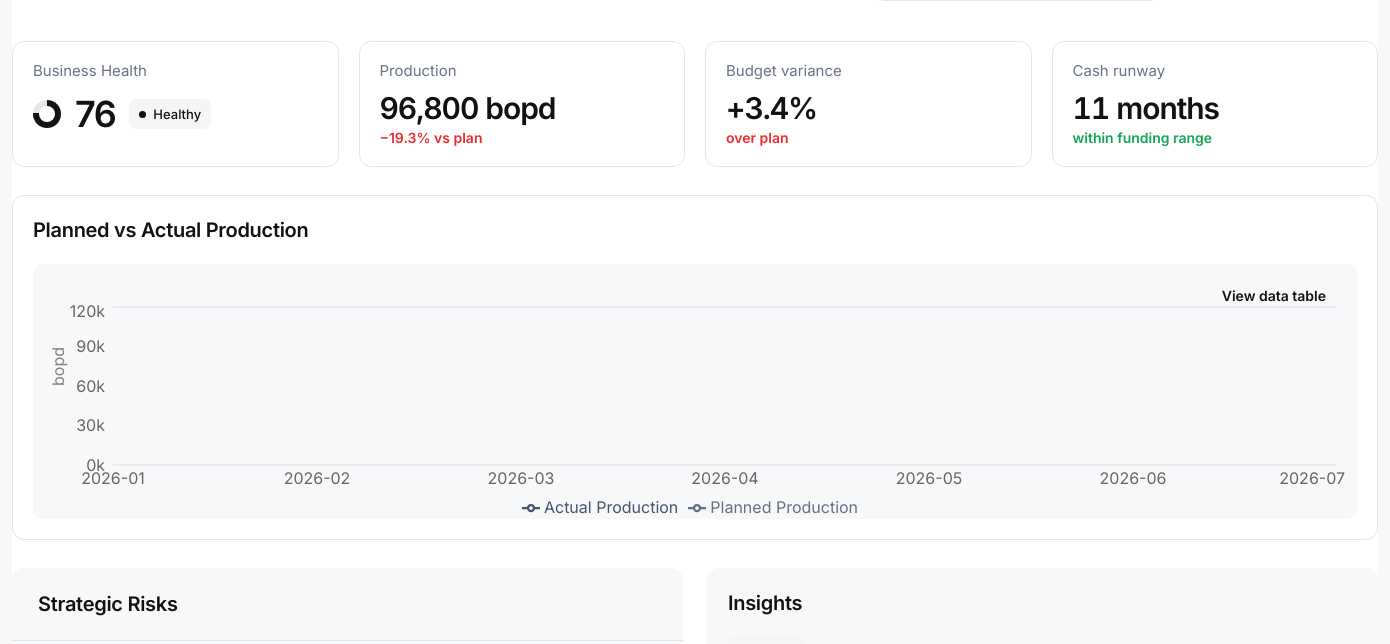
Phase 3 dashboards › renders the current-period CEO production evidence and accessible data table
Expected: the text "96,800 bopd" is shown, left=380, top=90, right=556, bottom=126
Click the button "View data table": coordinates (1274, 296) left=1203, top=274, right=1345, bottom=318
(page scrolled)
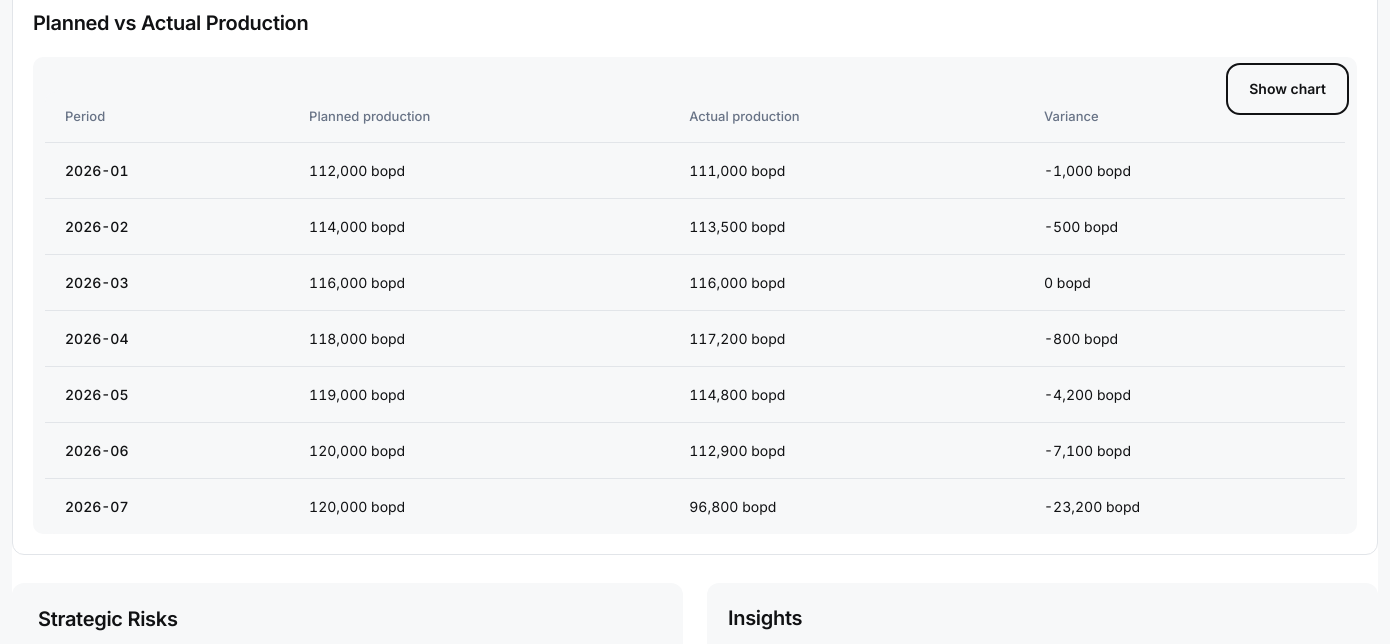
Result: the table named "Planned production, actual production and variance data" shows "120,000 bopd" at left=309, top=442, right=405, bottom=459
